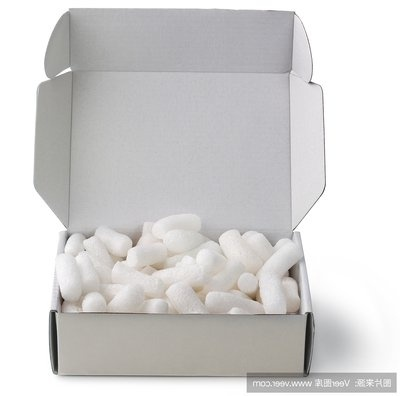5/可回收垃圾/泡沫: (56, 214, 301, 315)
